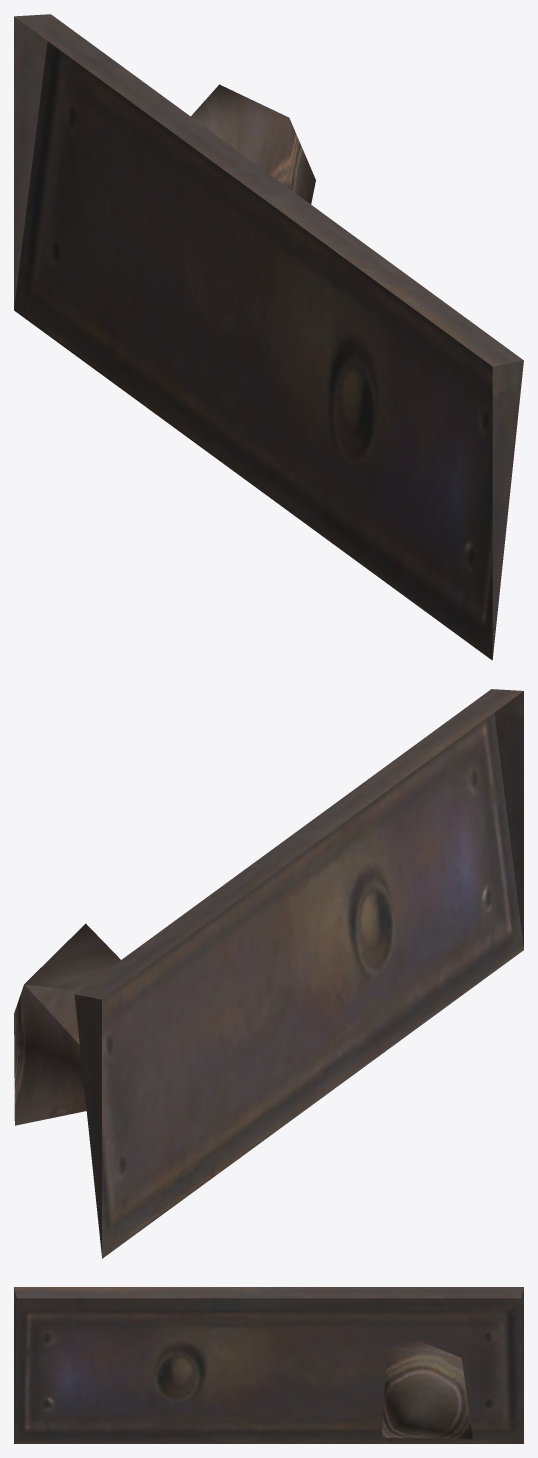
File: p_glo_doorknob1_LOD3.obj
3 renders of one model, top to bottom at view 1: azimuth 30°, elevation 25°; view 2: azimuth 150°, elevation 25°; view 3: azimuth 270°, elevation 25°, orthographic. The views are drawn at different scales.
Parts seen in each view (by area): view 1: mtl_p_glo_doorknob; view 2: mtl_p_glo_doorknob; view 3: mtl_p_glo_doorknob.
Part boxes in pixels (x1,y1,x2,y2): mtl_p_glo_doorknob: [14, 14, 523, 660]; mtl_p_glo_doorknob: [14, 689, 523, 1258]; mtl_p_glo_doorknob: [14, 1287, 523, 1443].
Size of the model in its own units: 7.48 by 10.45 by 30.84.
